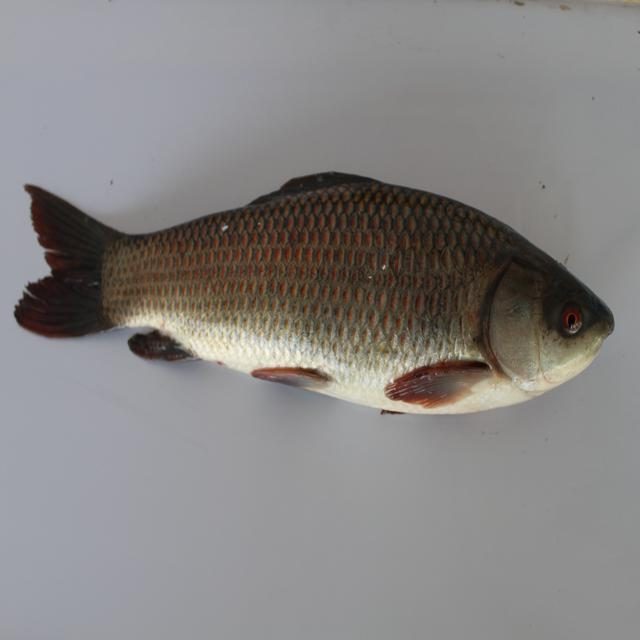Rohu: (22, 155, 623, 416)
